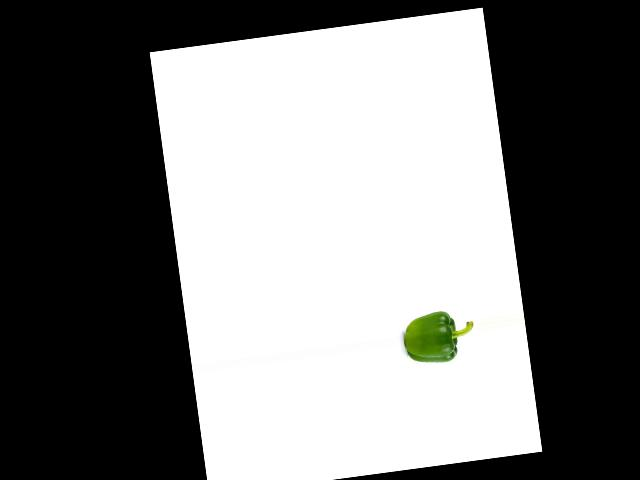bell_pepper: (400, 306, 477, 375)
